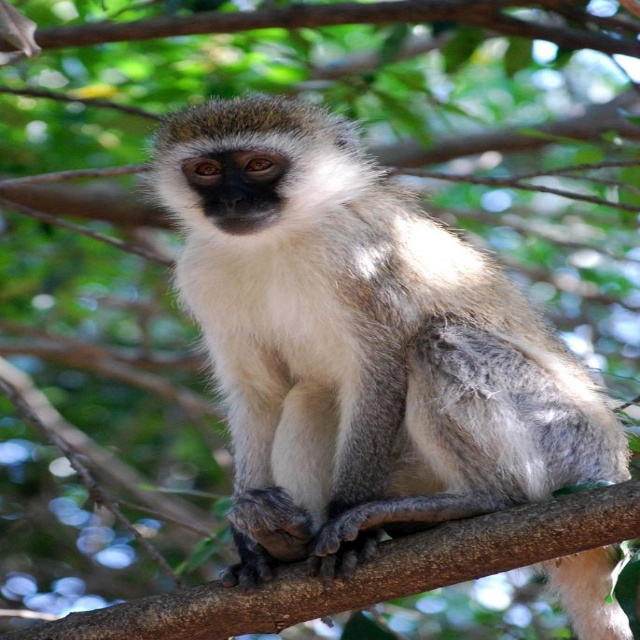Monkey: (128, 88, 640, 640)
